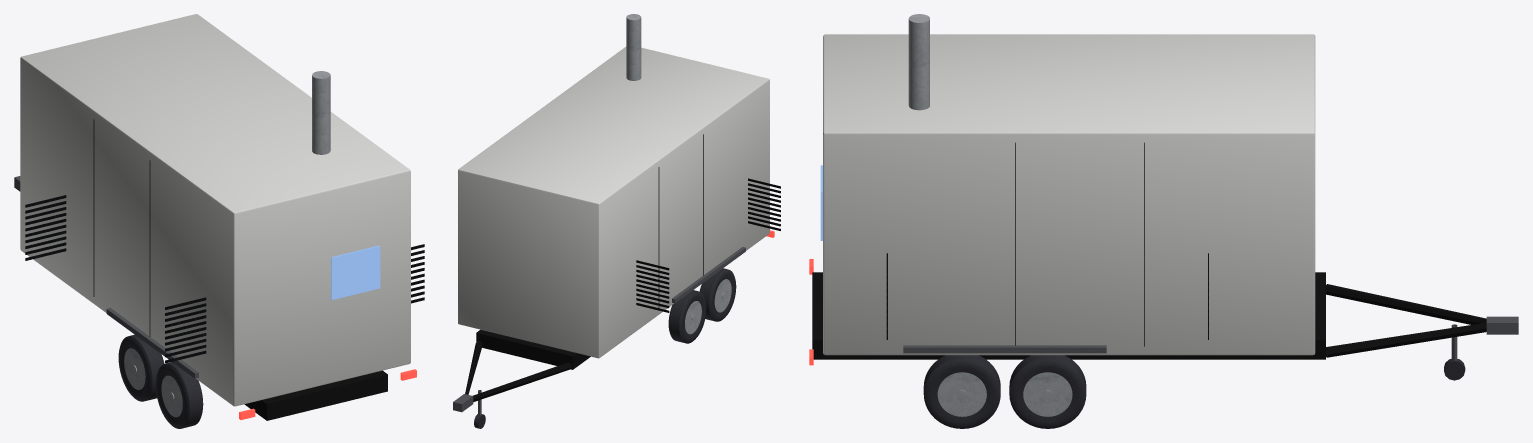
Rendered from generator_trailer_white.gltf.
3 renders of one model, left to right at view 1: azimuth 30°, elevation 25°; view 2: azimuth 150°, elevation 25°; view 3: azimuth 270°, elevation 25°, orthographic. The views are drawn at different scales.
Visible parts, largest first — view 1: generator_trailer_white; view 2: generator_trailer_white; view 3: generator_trailer_white.
Boxes of the visible parts, x1,y1,x2,y2 form: generator_trailer_white: (14, 14, 424, 428); generator_trailer_white: (453, 14, 780, 428); generator_trailer_white: (809, 14, 1518, 428).
Bounding box in the file's own units: 3.21 × 3.95 × 6.63.
11 materials, 7 textured.
